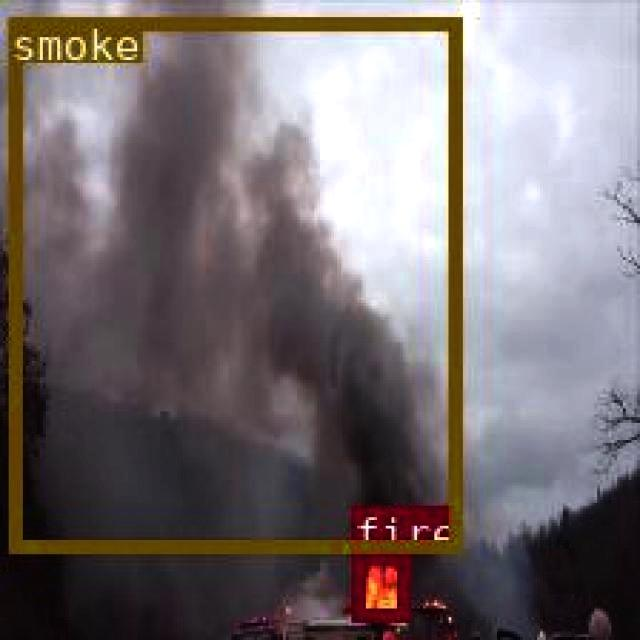fire: (351, 549, 406, 619)
smoke: (7, 14, 459, 550)
